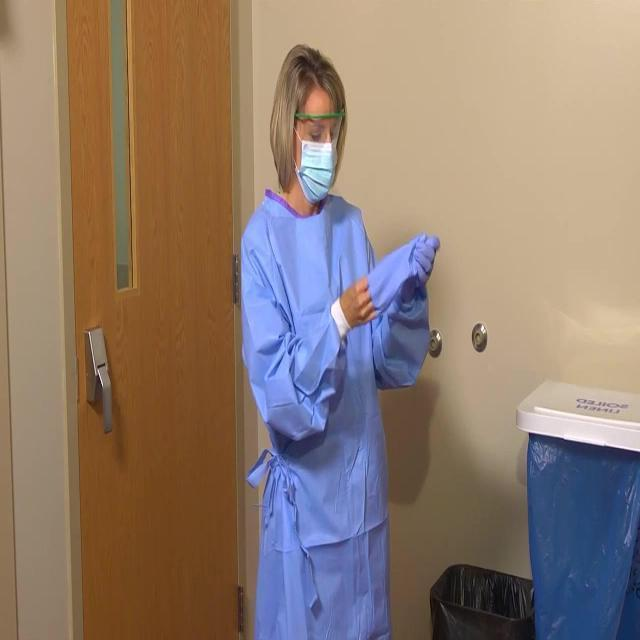gloves: (410, 225, 440, 298)
